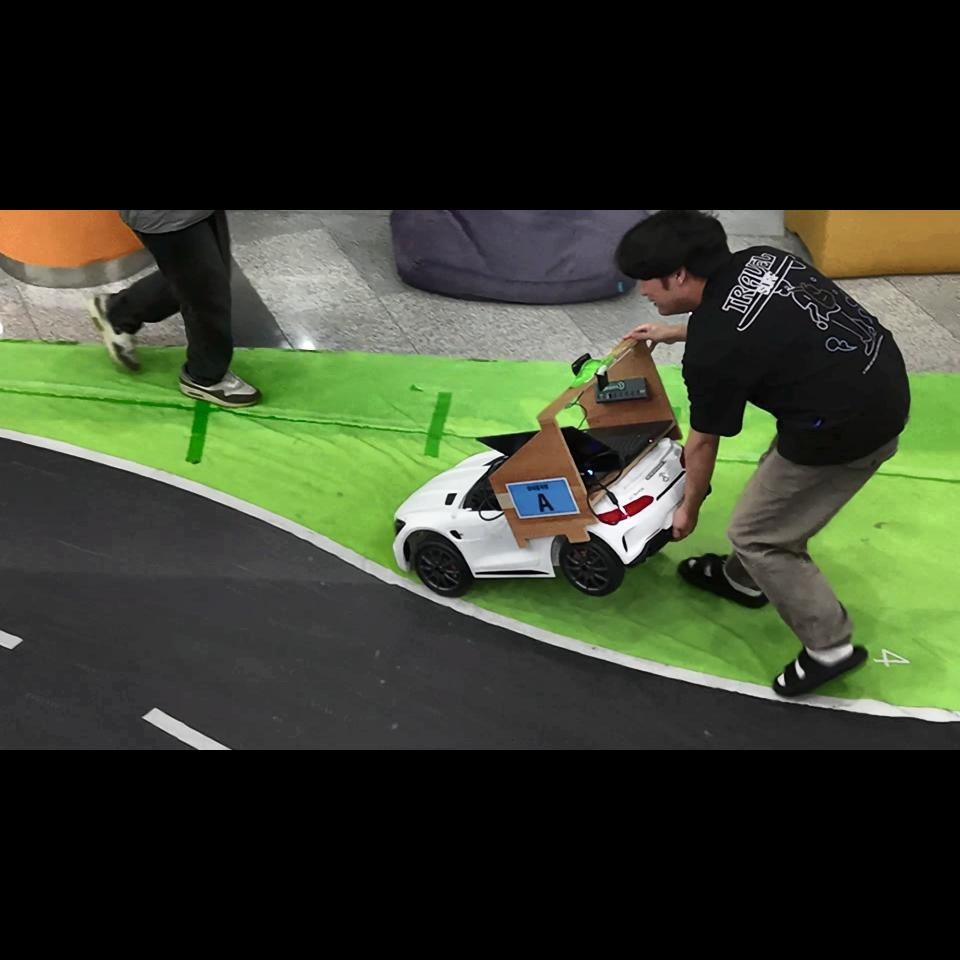broken_line: (141, 707, 233, 750), (0, 630, 24, 650)
